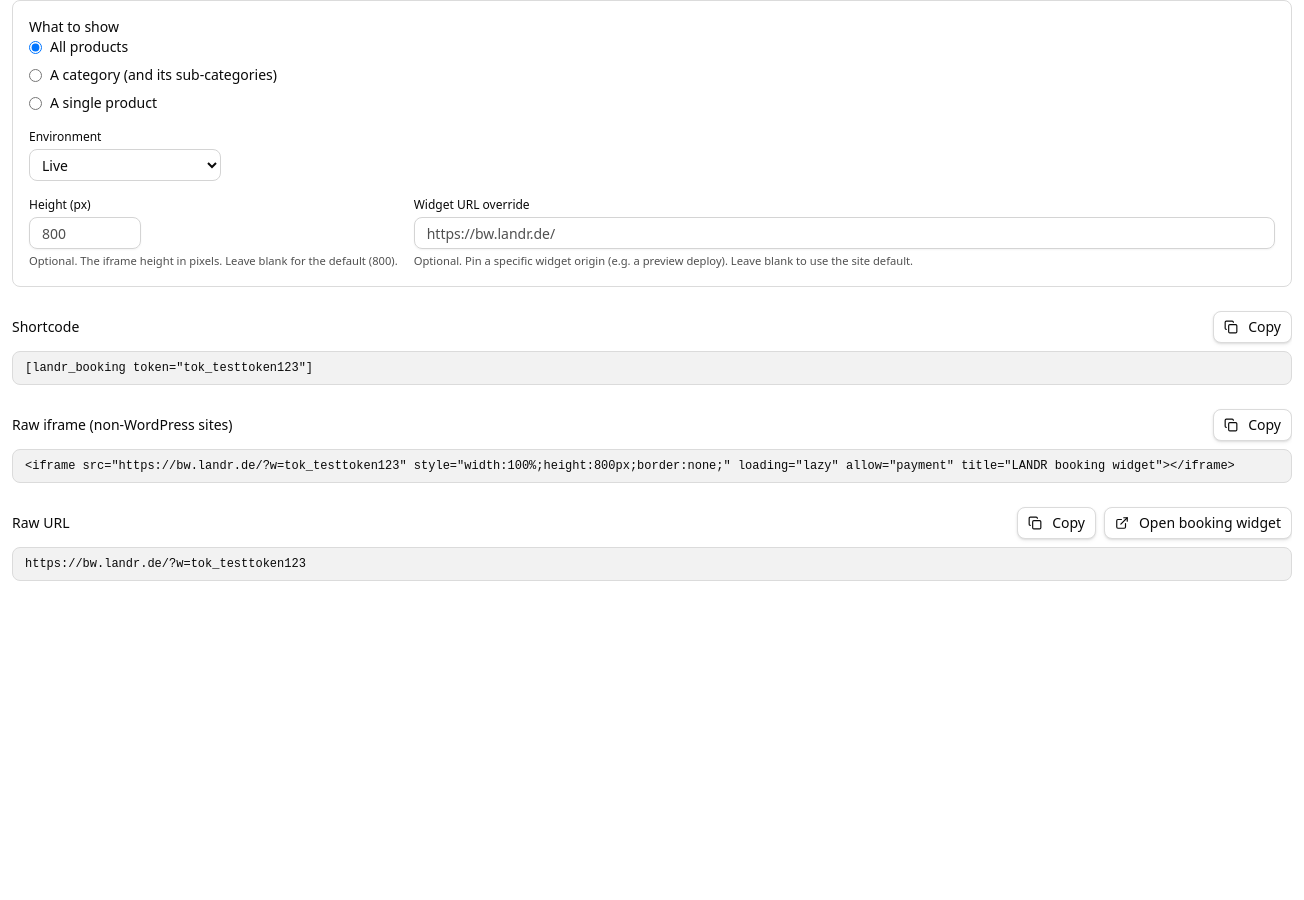
it: EmbedSettings (landr-up1b / landr-il9f.3) › adds a group= attr when a category is selected
Click the radio button with test id "embed-mode-category": click(36, 75) left=29, top=68, right=42, bottom=82
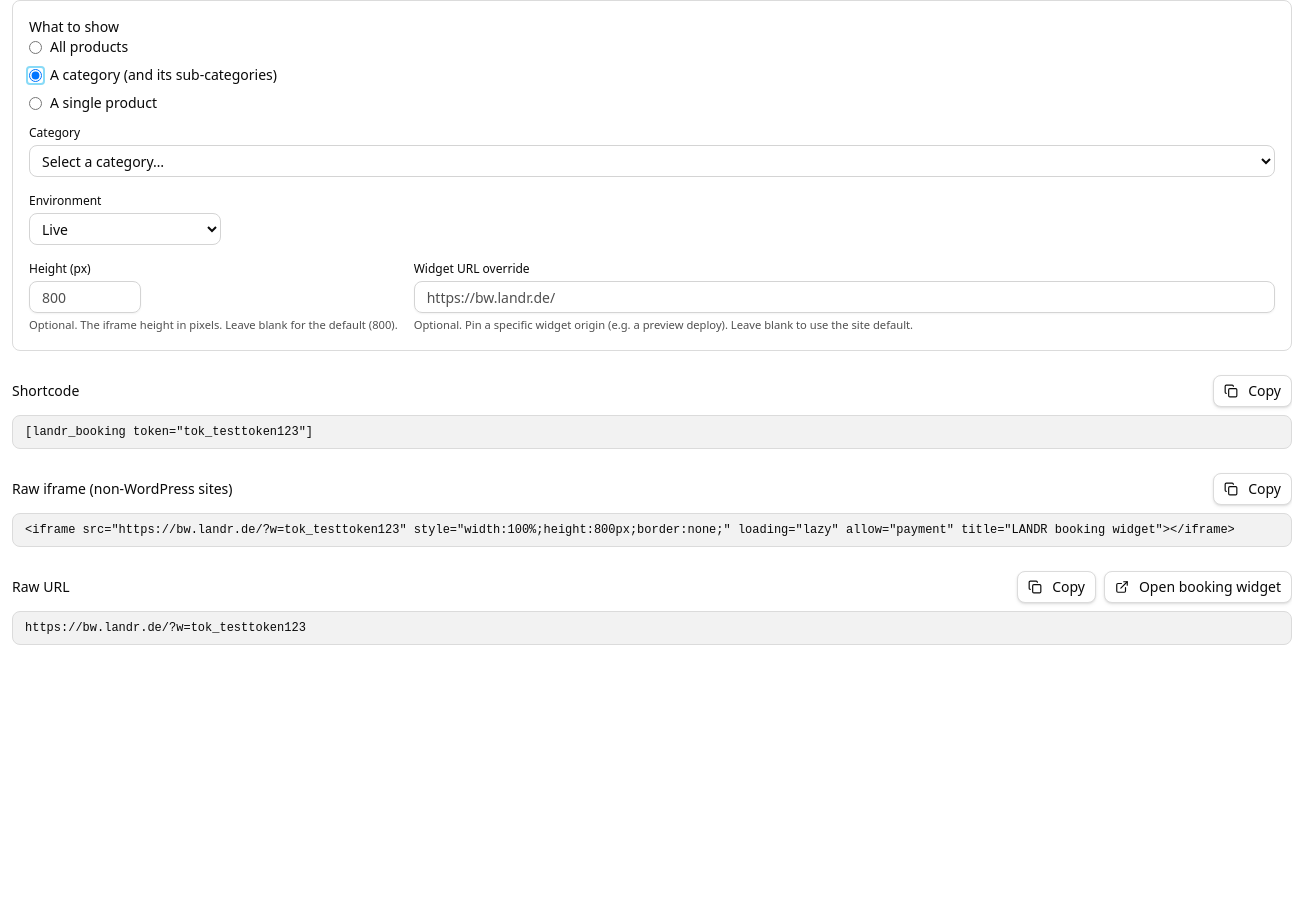
Select "Courses" in the dropdown with test id "embed-category-select": (652, 161) left=29, top=145, right=1275, bottom=177
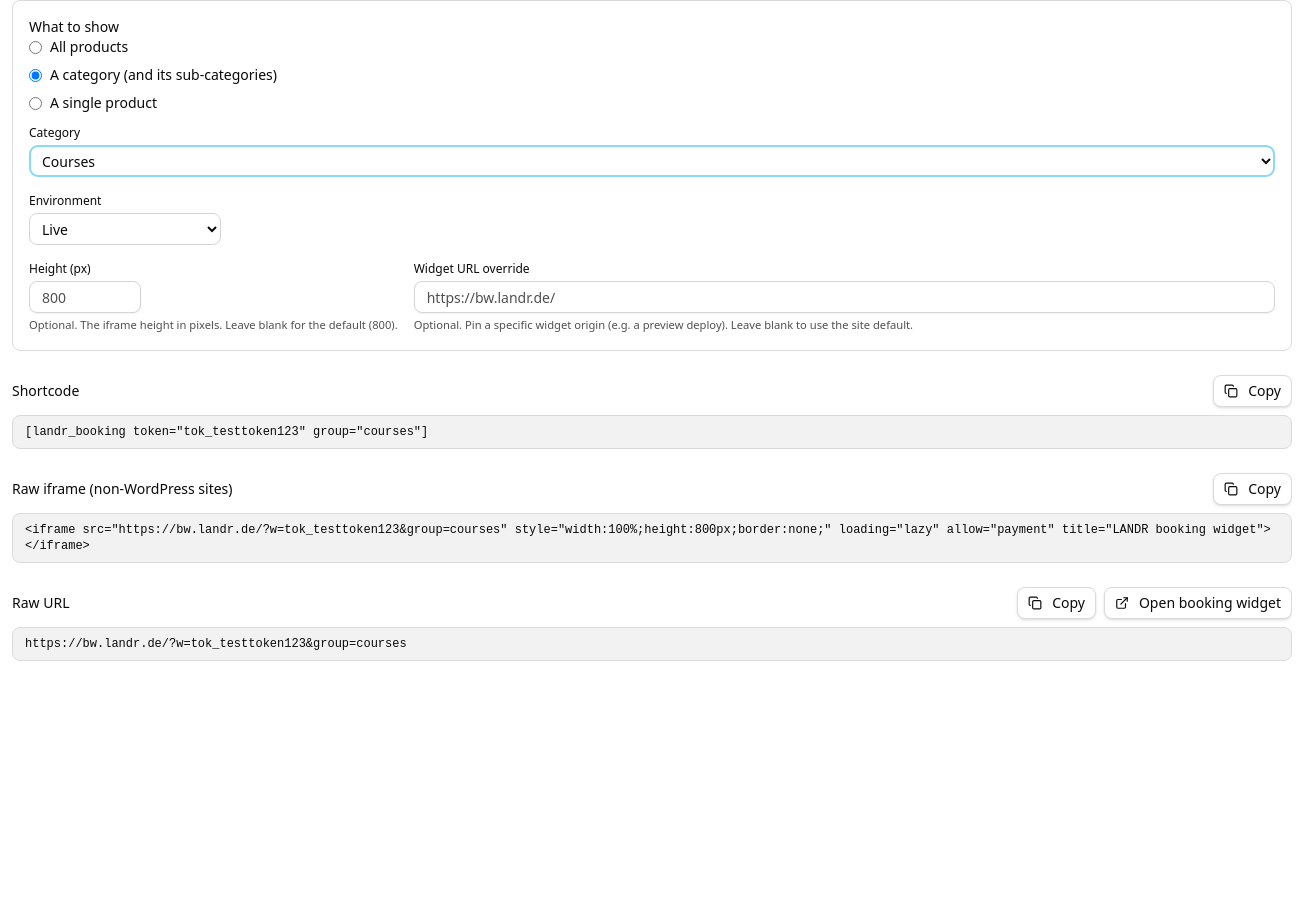
Expected: the text with test id "embed-shortcode-code" reads "[landr_booking token=\"tok_testtoken123\" group=\"courses\"]", left=25, top=425, right=428, bottom=439
